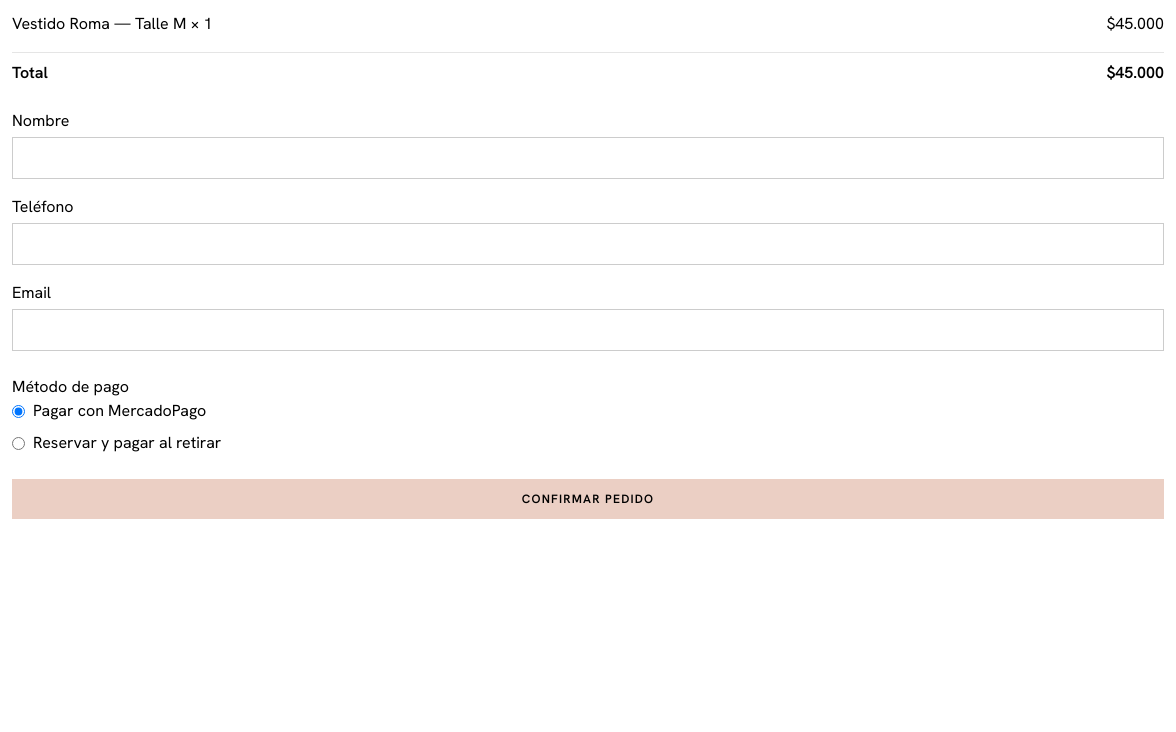
Test: CheckoutForm › submits contact fields + method + the exact variant/qty items to /api/checkout (PICKUP_CASH — no redirect)
Type "Ana Pérez" into the field labelled "Nombre".
click(588, 158); type("Ana Pérez")  # box [12,137,1164,179]
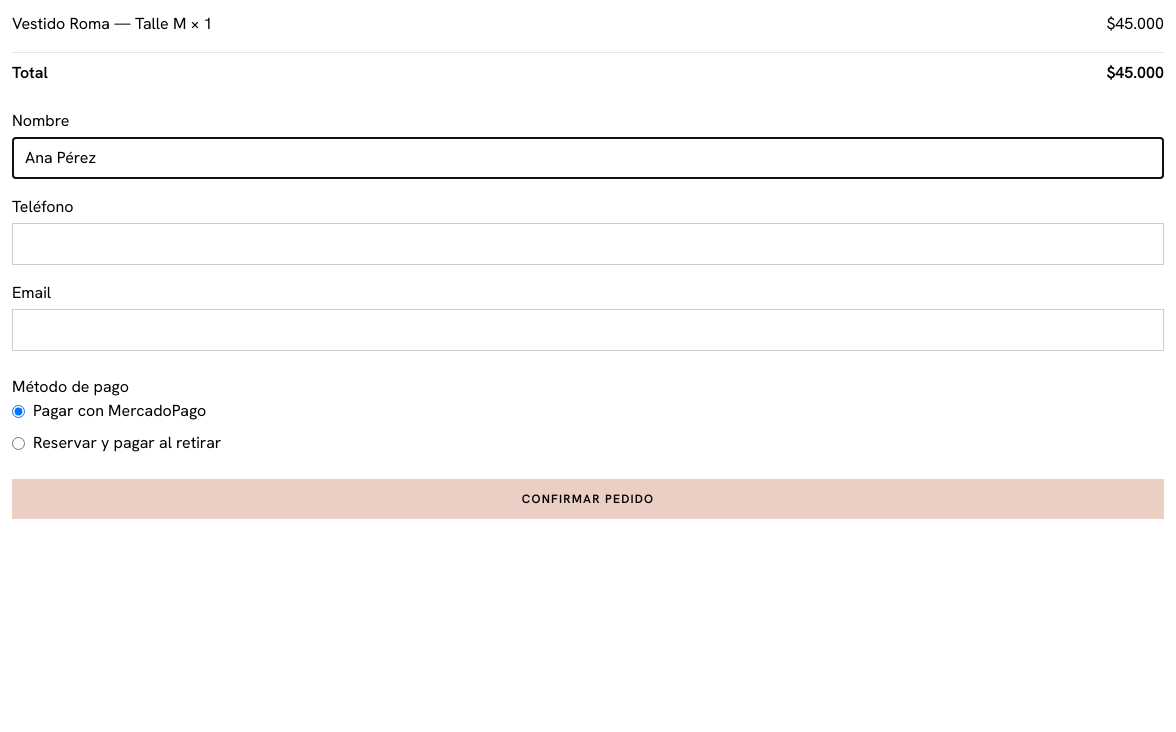
Type "3815551234" into the field labelled "Teléfono".
click(588, 244); type("3815551234")  # box [12,223,1164,265]
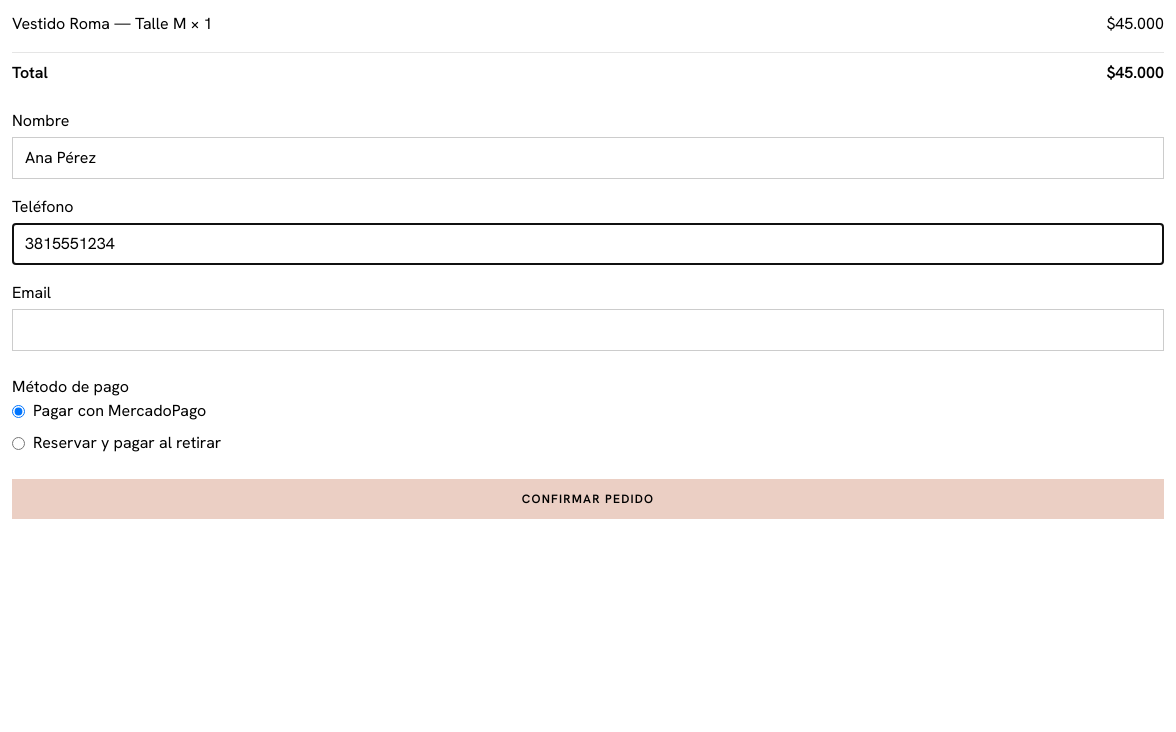
Type "ana@example.com" into the field labelled "Email".
click(588, 330); type("ana@example.com")  # box [12,309,1164,351]
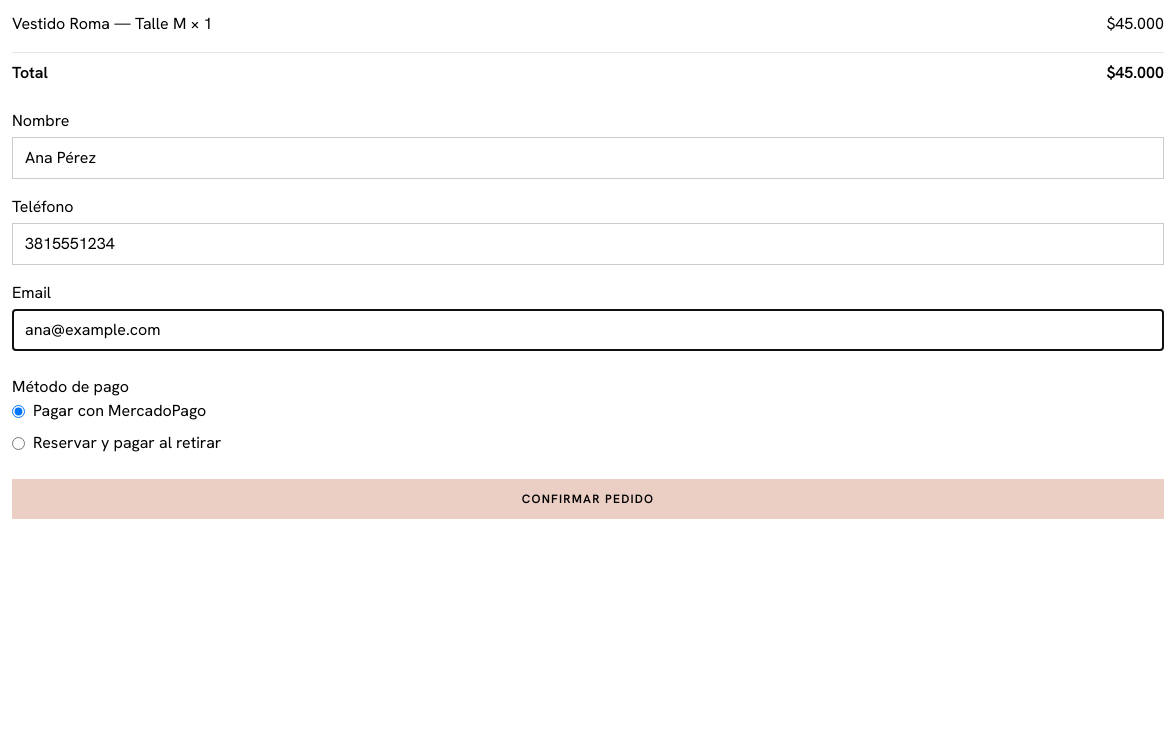
Click the radio button labelled "Reservar y pagar al retirar".
click(18, 443)  # box [12,436,25,450]
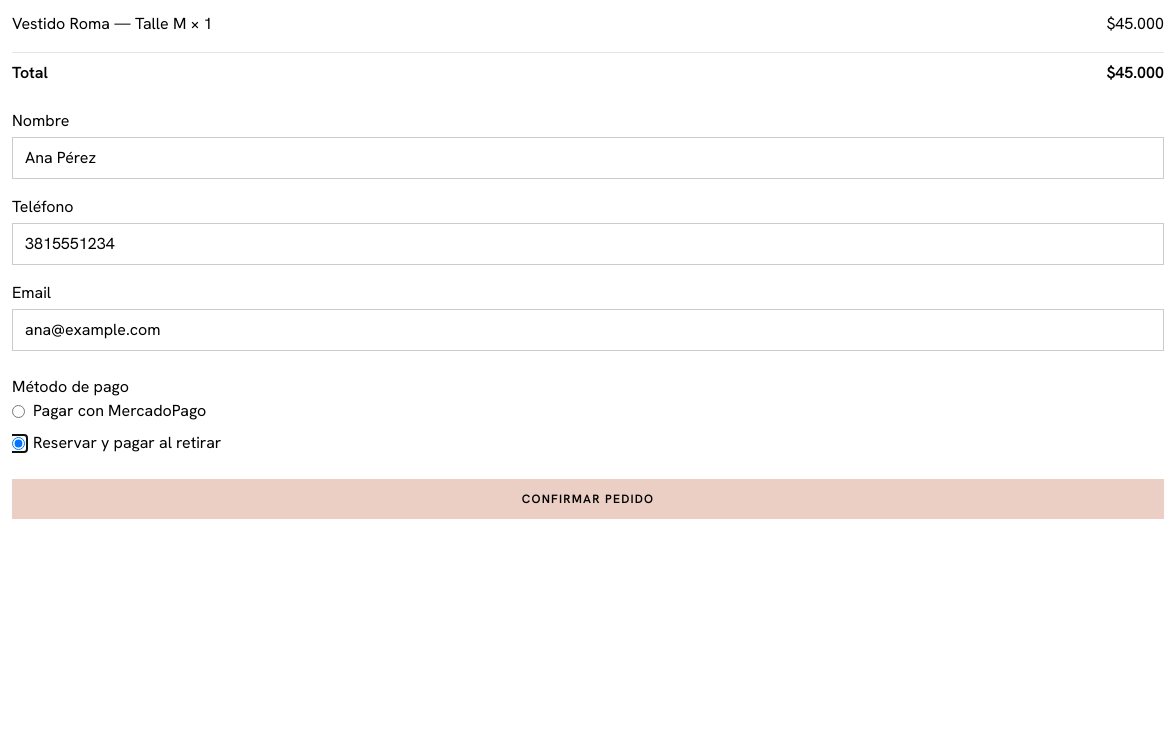
Click the button "Confirmar pedido".
click(588, 499)  # box [12,479,1164,519]
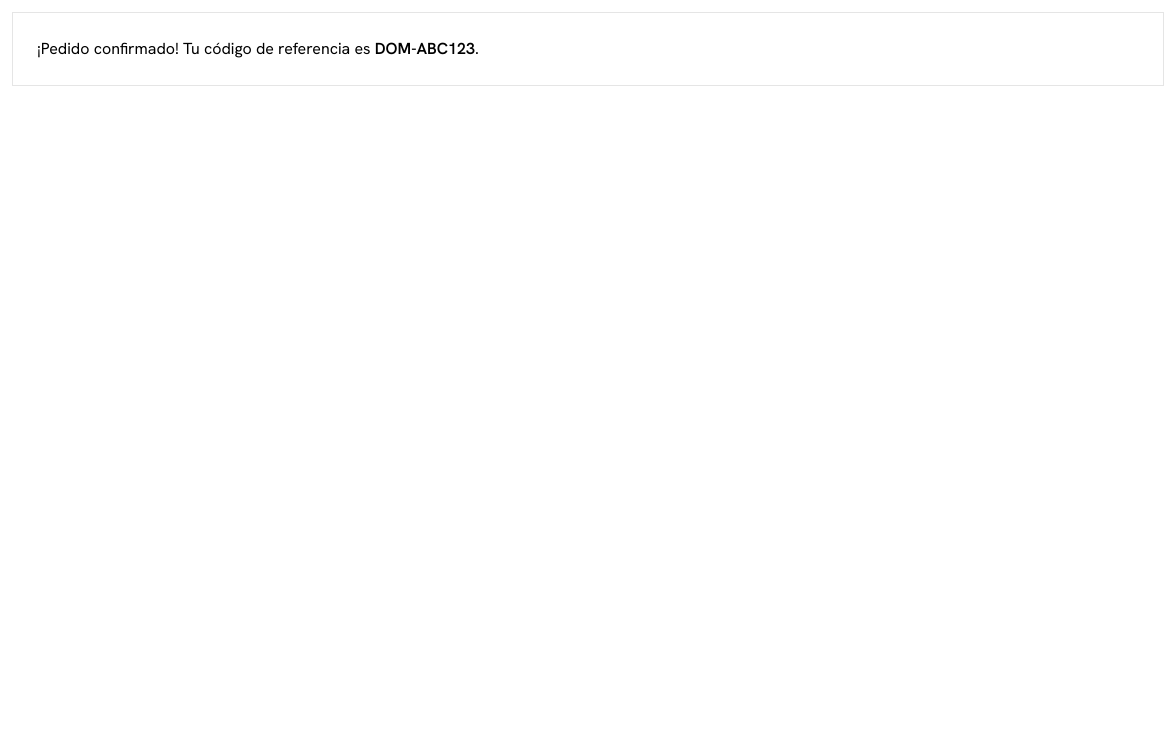
Result: the text "DOM-ABC123" is shown at [375,38,475,59]
